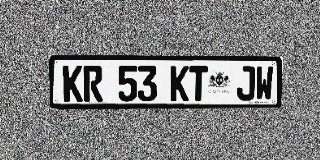3: (138, 66, 157, 101)
5: (118, 66, 137, 101)
J: (237, 66, 255, 101)
K: (63, 65, 83, 102), (170, 66, 189, 101)
R: (83, 65, 103, 102)
T: (189, 66, 208, 101)
W: (255, 66, 273, 100)
